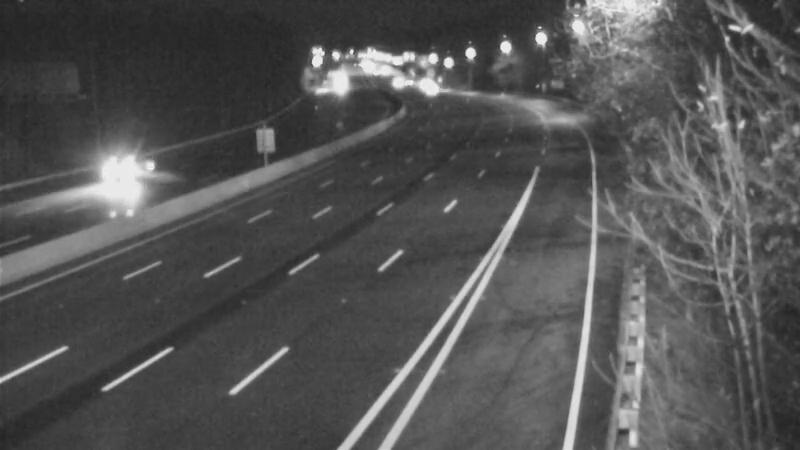vehicle: (80, 135, 160, 215), (397, 59, 447, 109), (407, 64, 457, 114)
